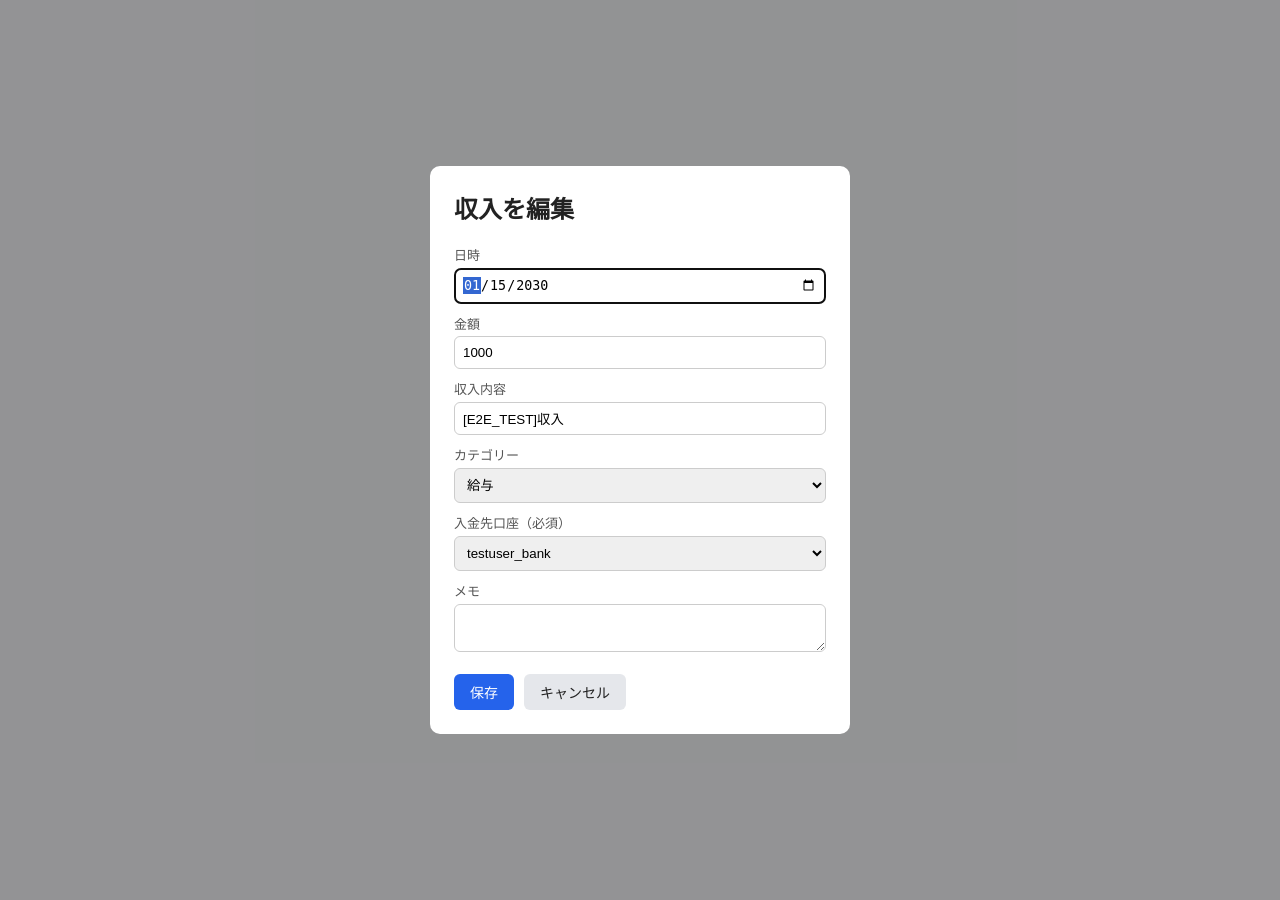
Test: TransactionModal 編集 #277 › 収入PUTの400メッセージをモーダルに表示する
Click the button "保存" at (484, 692), box [454, 674, 514, 710]
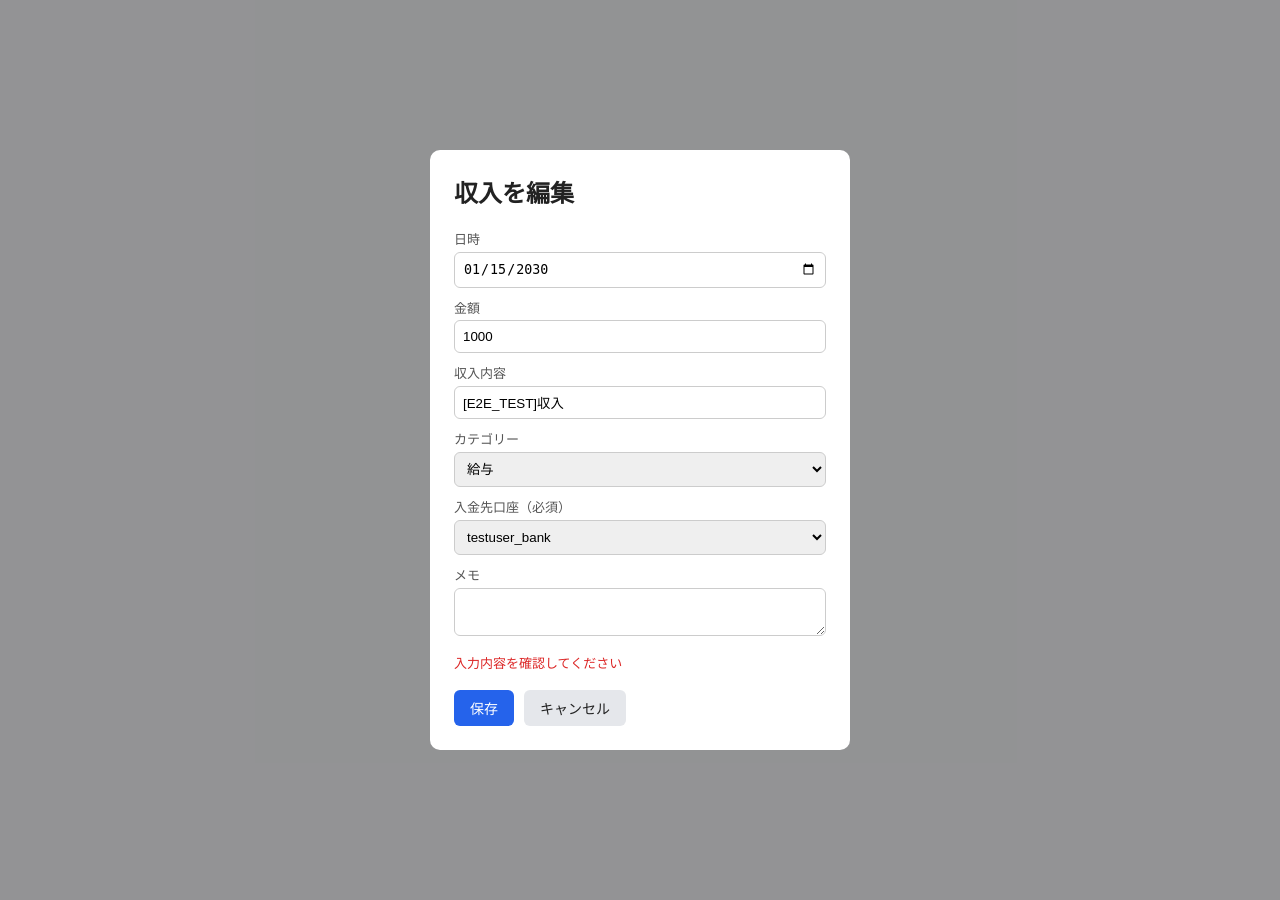
Check: the button "保存" is enabled, box [454, 690, 514, 726]
Check: the message reads "入力内容を確認してください", box [454, 654, 622, 670]
